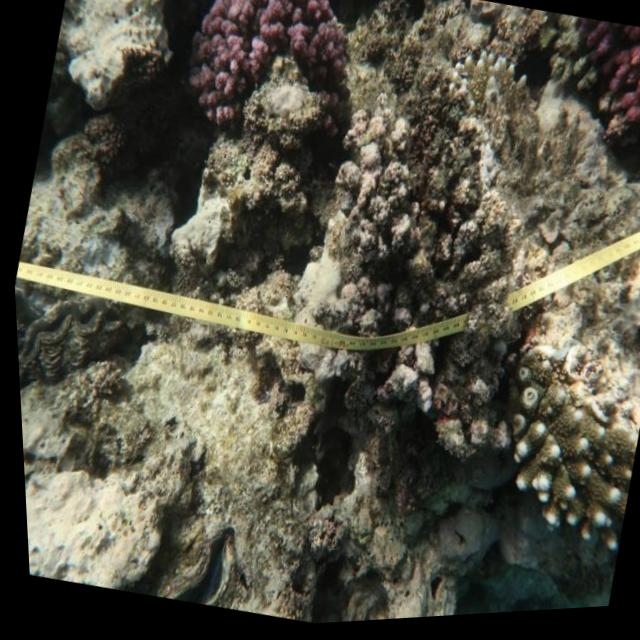Healthy Coral: (163, 0, 371, 148), (545, 18, 640, 159)
